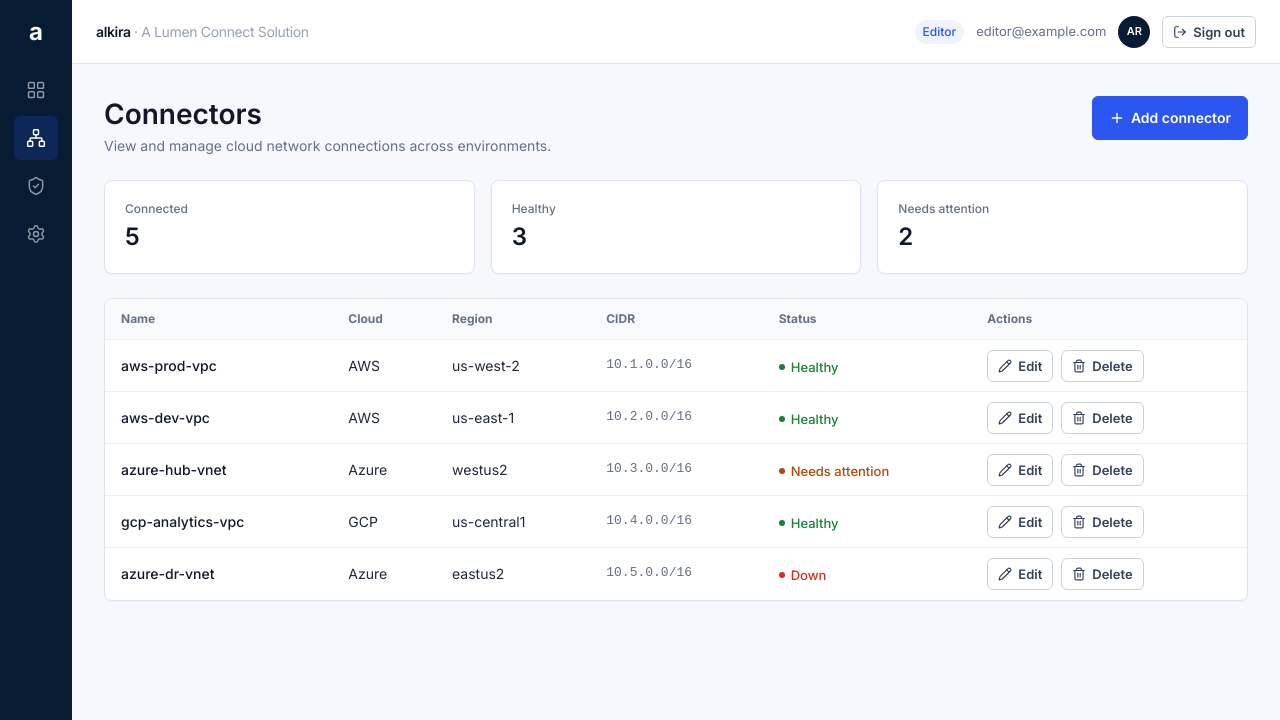
it: ConnectorsPage › cancelling an edit changes nothing
Click the button with aria-label "Edit aws-dev-vpc" at (1020, 418), box [987,402,1053,434]
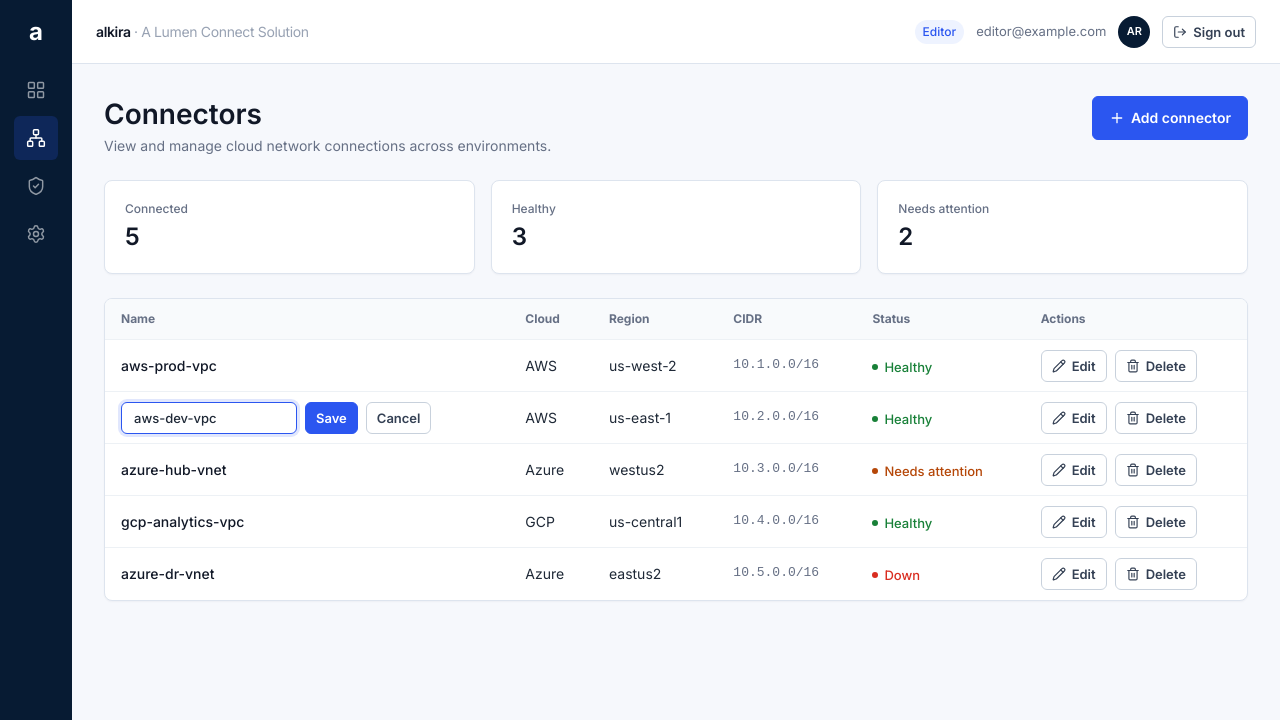
Replace the text in the field named "New name for aws-dev-vpc" with "should-not-stick" at (209, 418), box [121,402,297,434]
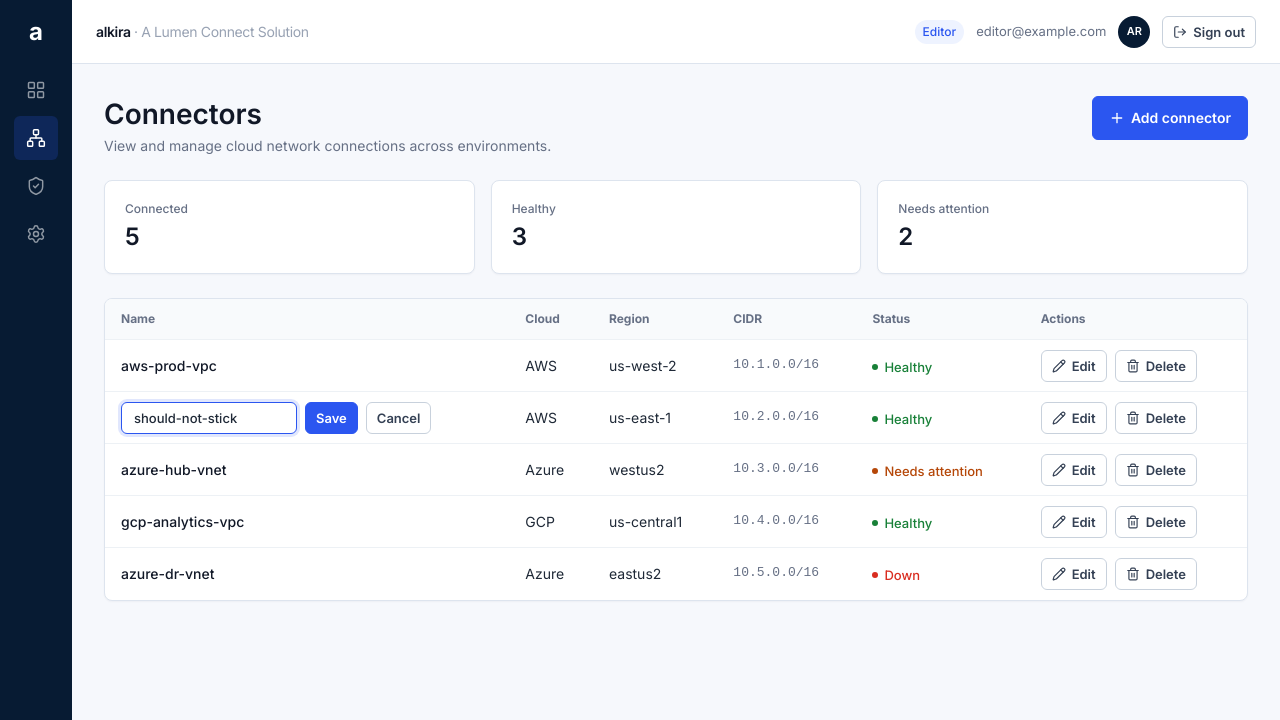
Click the button "Cancel" at (399, 418), box [366,402,432,434]
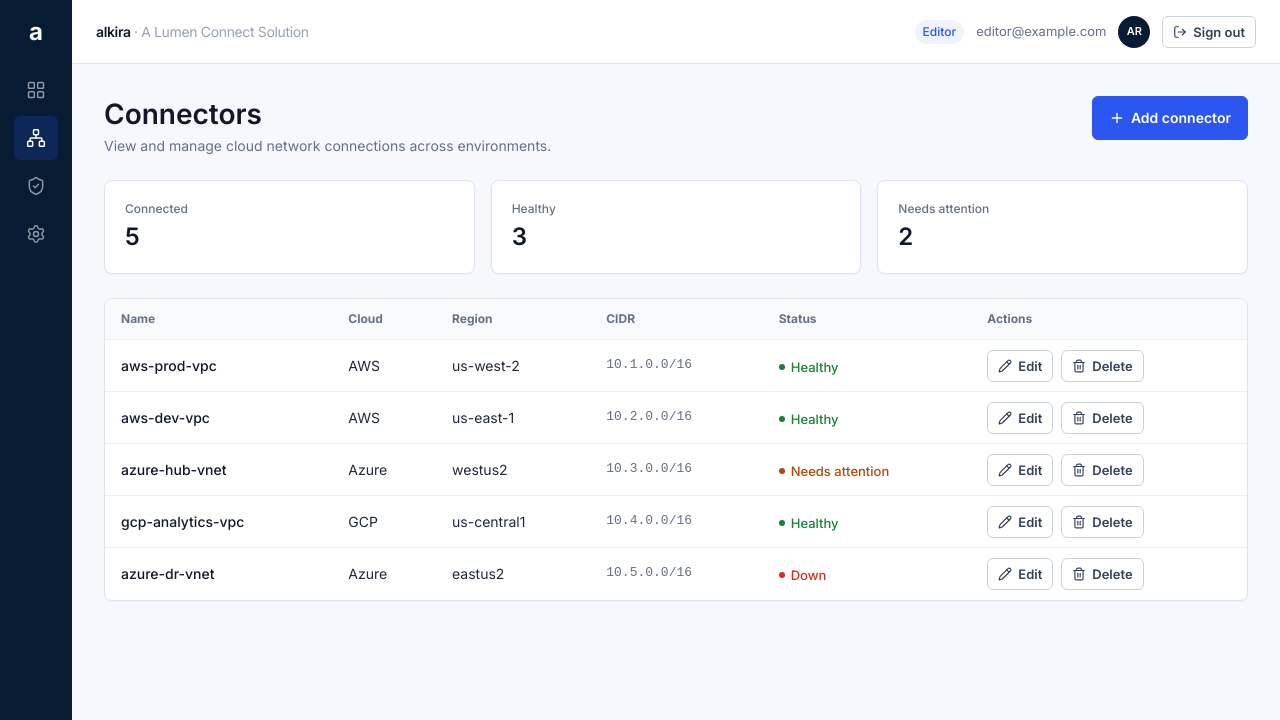
Expected: the text "should-not-stick" is not shown
Now the column heading "aws-dev-vpc" is shown, box [105,392,332,444]
